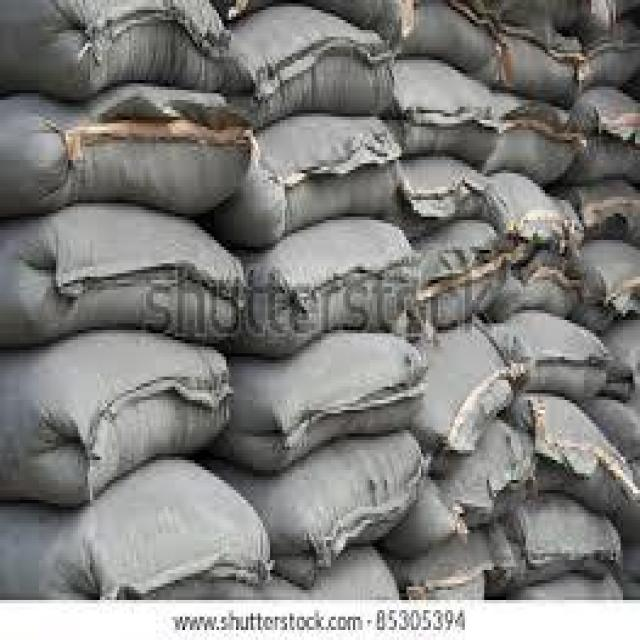gunny_bag: (1, 319, 234, 510), (3, 458, 271, 601), (0, 199, 246, 351), (3, 77, 256, 214), (239, 329, 431, 480), (270, 426, 431, 593), (250, 214, 419, 365), (3, 0, 233, 104), (252, 111, 402, 253), (237, 11, 400, 136), (424, 426, 540, 557), (424, 344, 525, 480), (393, 58, 503, 177), (418, 219, 512, 338), (530, 406, 635, 512), (515, 507, 629, 594), (398, 156, 504, 247), (495, 92, 585, 187), (502, 5, 586, 103), (499, 179, 587, 266), (399, 0, 505, 71), (516, 331, 614, 397), (402, 544, 507, 597), (583, 249, 640, 340), (581, 92, 640, 179), (581, 176, 640, 243), (584, 30, 640, 85)
